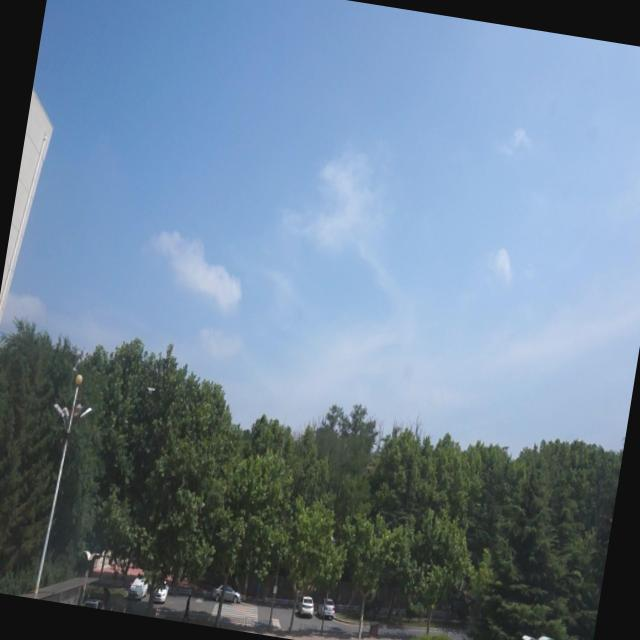drone: (142, 381, 160, 399)
